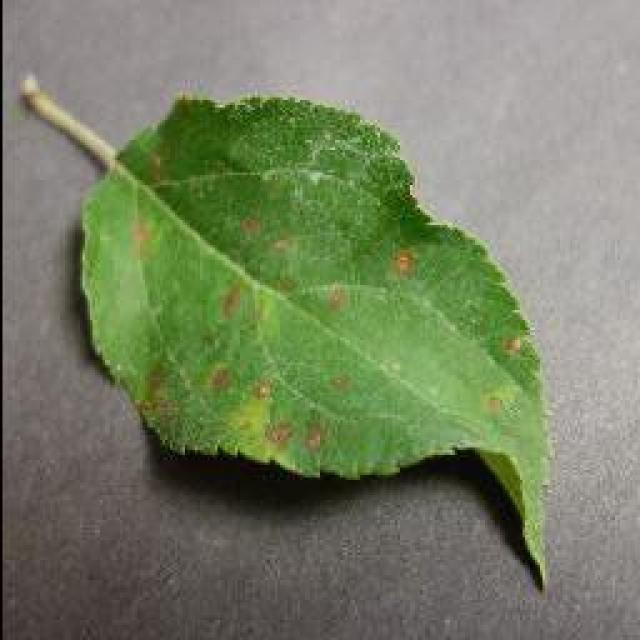apple rust disease: (17, 72, 555, 590)
